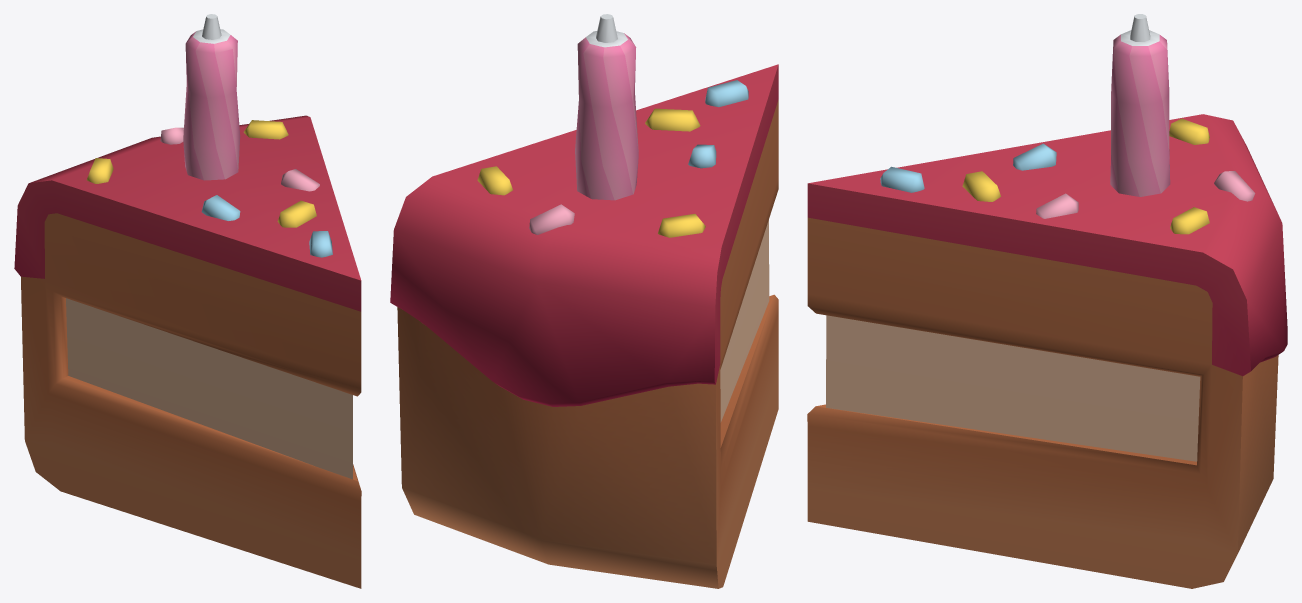
File: cake_birthday_slice.obj
3 views of the same model, side by side, from view 1: azimuth 30°, elevation 25°; view 2: azimuth 150°, elevation 25°; view 3: azimuth 270°, elevation 25° (orthographic). The views are drawn at different scales.
Visible parts, largest first — view 1: cake_birthday_slice; view 2: cake_birthday_slice; view 3: cake_birthday_slice.
Part boxes in pixels (<box>): cake_birthday_slice: <box>14,14,361,588</box>; cake_birthday_slice: <box>390,14,778,588</box>; cake_birthday_slice: <box>807,14,1287,588</box>.
Bounding box in the file's own units: 0.4668 × 0.7096 × 0.6102.
1 material, 1 textured.
